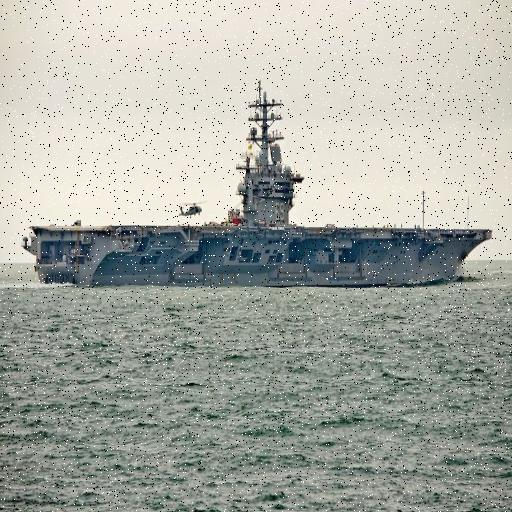Portanaves: (22, 75, 494, 291)
